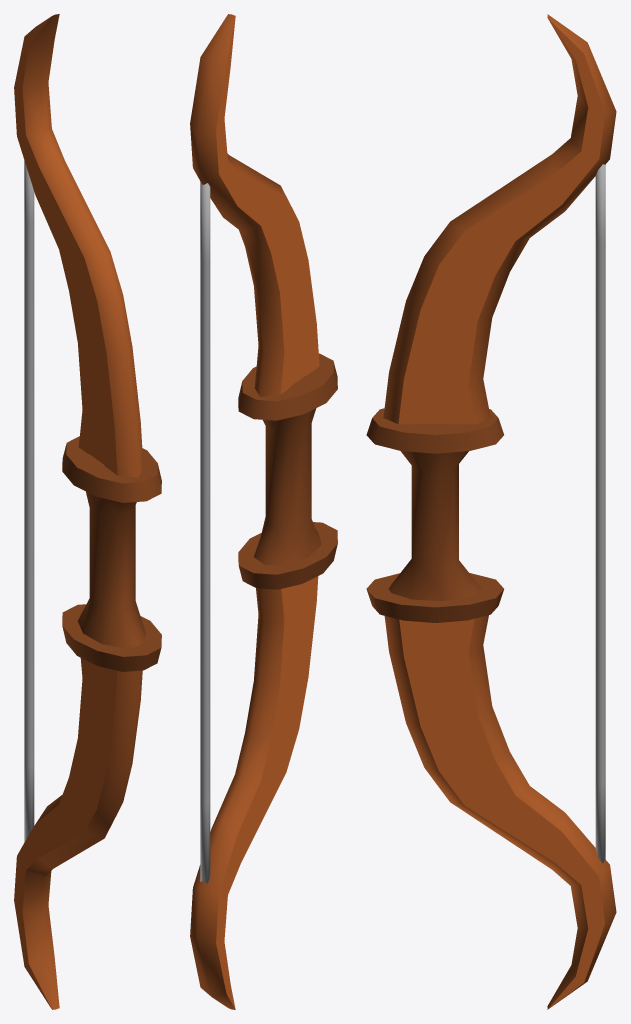
File: bow.fbx
The picture shows the model from 3 angles, left to right: view 1: azimuth 30°, elevation 25°; view 2: azimuth 150°, elevation 25°; view 3: azimuth 270°, elevation 25°; orthographic projection.
Visible parts, largest first — view 1: bow, spring-bow; view 2: bow, spring-bow; view 3: bow, spring-bow.
Part boxes in pixels (<box>): bow: <box>14,14,161,1009</box>; spring-bow: <box>24,160,34,842</box>; bow: <box>190,14,337,1009</box>; spring-bow: <box>200,182,210,883</box>; bow: <box>366,14,616,1009</box>; spring-bow: <box>595,164,605,862</box>.
Bounding box in the file's own units: 5.62 × 69.86 × 15.94.
